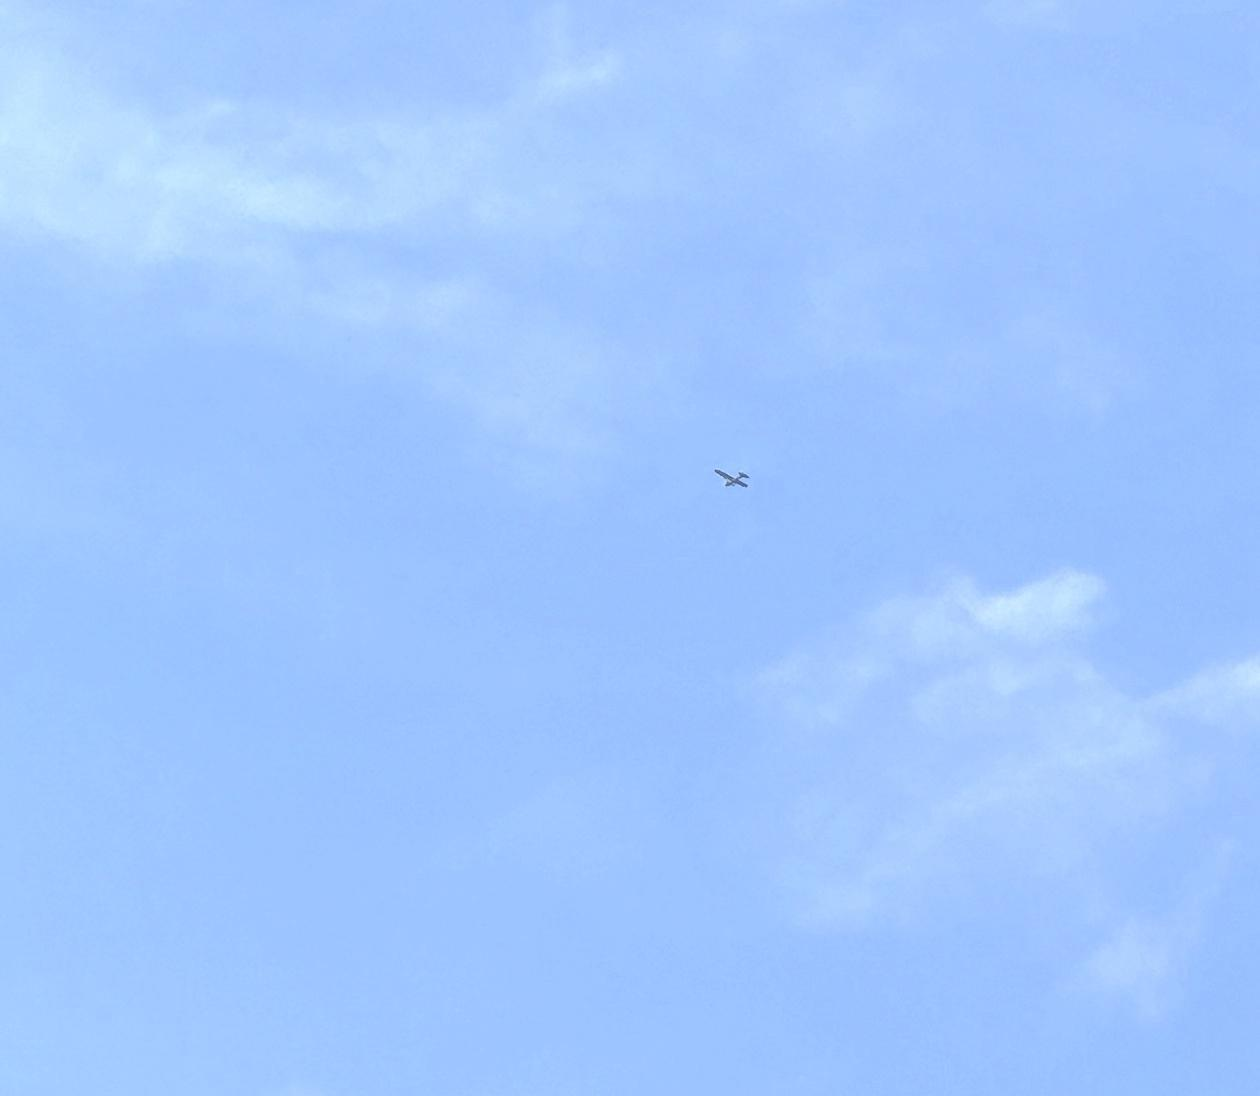Plane: (694, 452, 772, 504)
